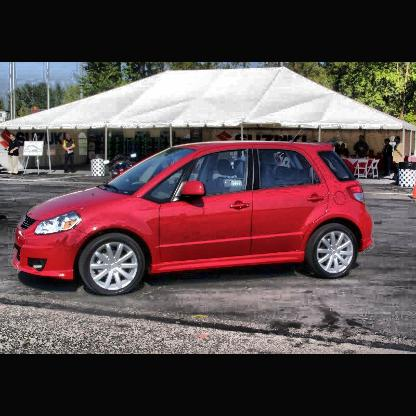Suzuki SX4 Hatchback 2012: (14, 136, 376, 298)
